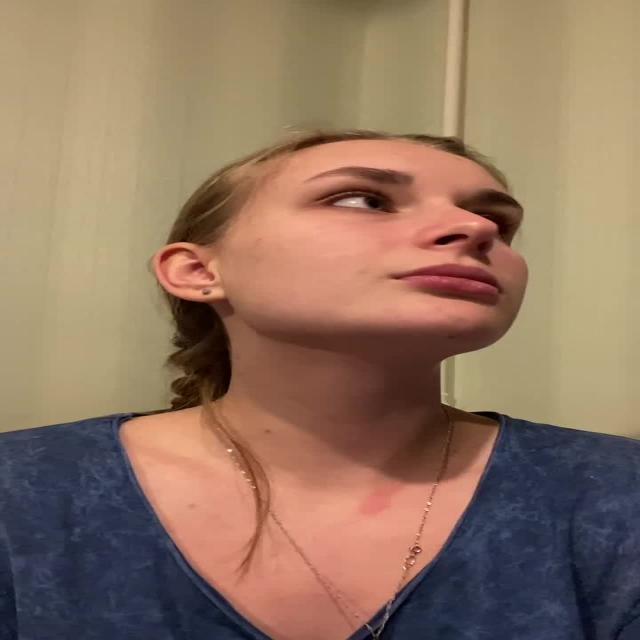earlobe: (194, 280, 228, 303)
eye: (326, 192, 396, 212), (469, 210, 514, 240)
nose: (416, 233, 514, 264)
wholeear: (153, 242, 227, 304)
